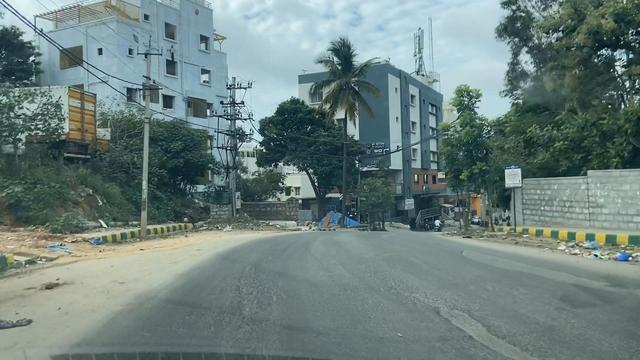RoadDamages: (448, 241, 640, 316), (377, 273, 539, 360)
